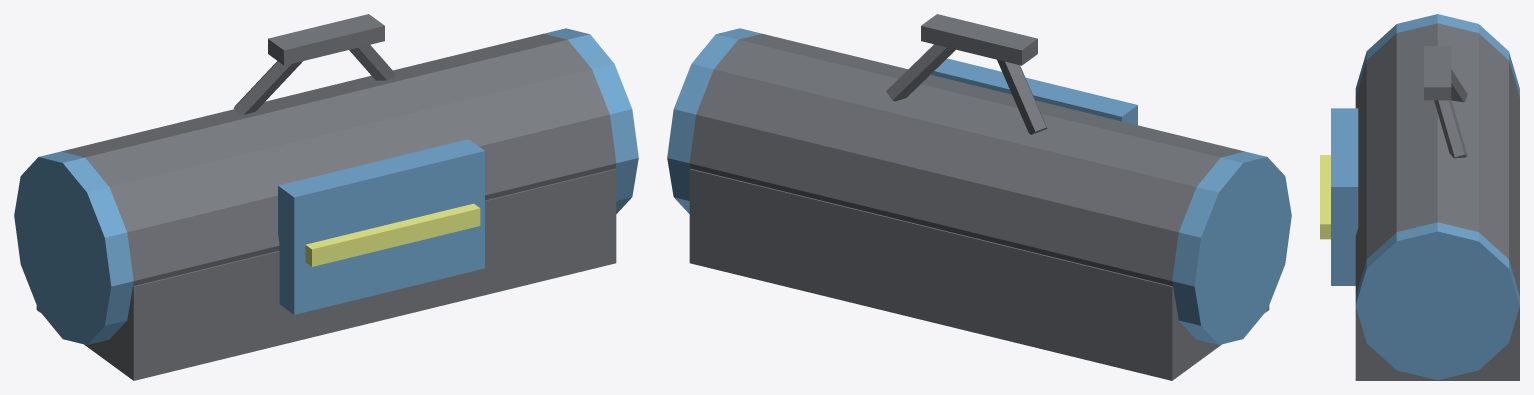
Rendered from tennis-club-and-courts-sports-bag-73697f1c.glb.
The picture shows the model from 3 angles, left to right: view 1: azimuth 30°, elevation 25°; view 2: azimuth 150°, elevation 25°; view 3: azimuth 270°, elevation 25°; orthographic projection. The views are drawn at different scales.
Visible parts, largest first — view 1: sports-bag; view 2: sports-bag; view 3: sports-bag.
Part boxes in pixels (x1,y1,x2,y2): sports-bag: (14,14,638,380); sports-bag: (667,14,1291,380); sports-bag: (1320,14,1519,380).
Size of the model in its own units: 0.94 by 0.433 by 0.365.
